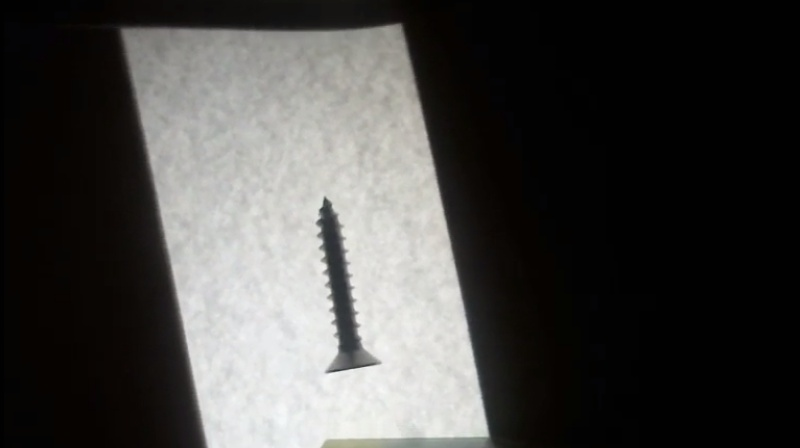S001: (309, 194, 386, 376)
